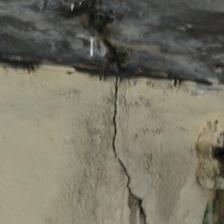Crack: (110, 78, 149, 223), (70, 6, 125, 72)
